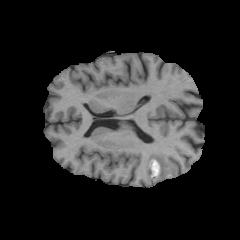glioma: (146, 153, 180, 185)
